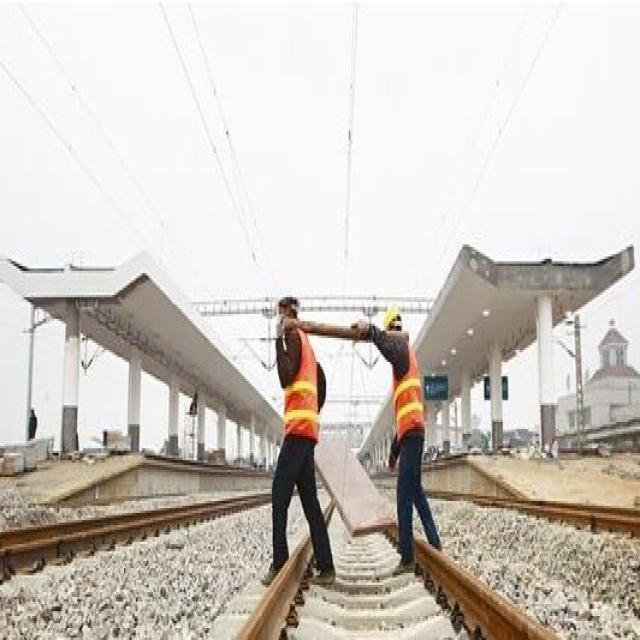helmet: (276, 366, 300, 442), (382, 399, 406, 465)
vest: (276, 440, 325, 585), (383, 451, 429, 578)
